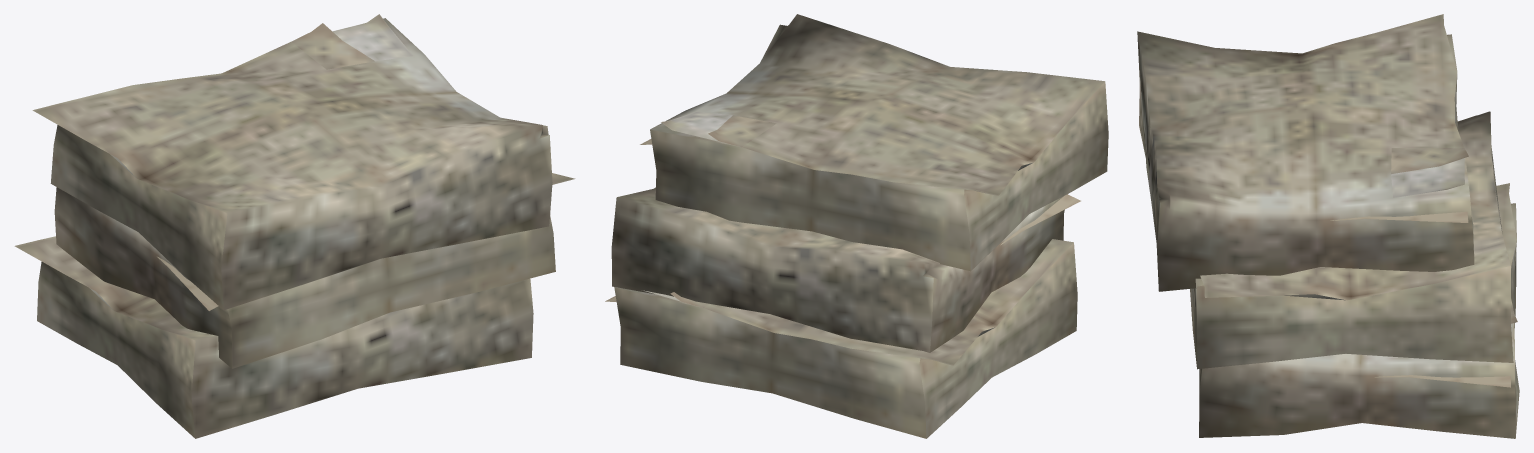
File: sm39_010_paperbundleset01a.fbx
3 views of the same model, side by side, from view 1: azimuth 30°, elevation 25°; view 2: azimuth 150°, elevation 25°; view 3: azimuth 270°, elevation 25° (orthographic). The views are drawn at different scales.
Visible parts, largest first — view 1: LOD_1_Group_0_Sub_1__sm36_009_PaperBundle01A_A_Mat; view 2: LOD_1_Group_0_Sub_1__sm36_009_PaperBundle01A_A_Mat; view 3: LOD_1_Group_0_Sub_1__sm36_009_PaperBundle01A_A_Mat.
Part boxes in pixels (x1,y1,x2,y2): LOD_1_Group_0_Sub_1__sm36_009_PaperBundle01A_A_Mat: (14, 14, 575, 438); LOD_1_Group_0_Sub_1__sm36_009_PaperBundle01A_A_Mat: (605, 14, 1108, 438); LOD_1_Group_0_Sub_1__sm36_009_PaperBundle01A_A_Mat: (1137, 14, 1519, 438).
Bounding box in the file's own units: 0.3874 × 0.2219 × 0.309.
